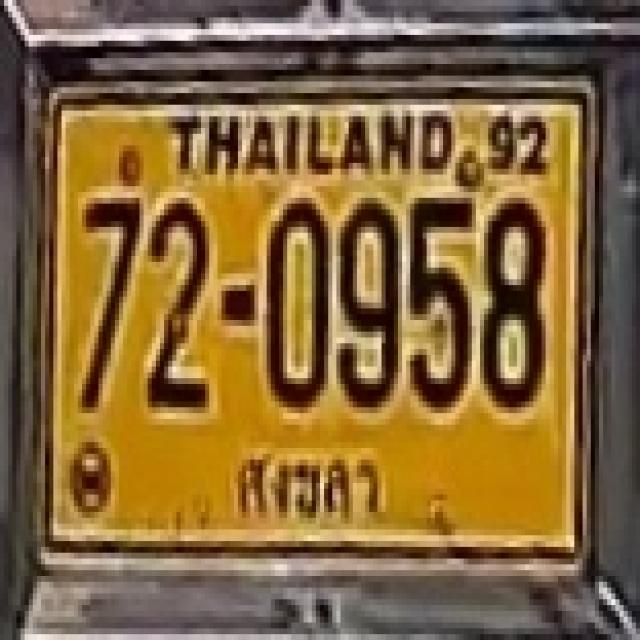0: (263, 192, 324, 401)
2: (146, 195, 207, 404)
5: (408, 192, 470, 401)
7: (78, 192, 139, 407)
8: (480, 192, 542, 401)
9: (334, 195, 396, 398)
SKA: (224, 448, 394, 526)
